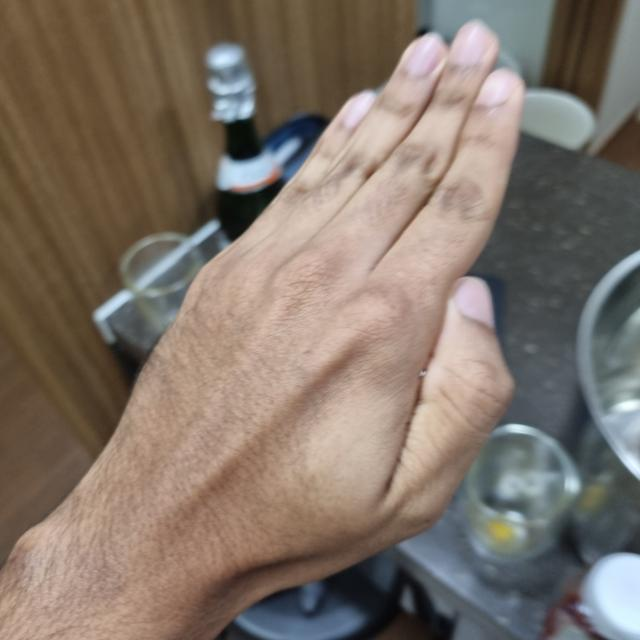Paper: (121, 23, 527, 591)
